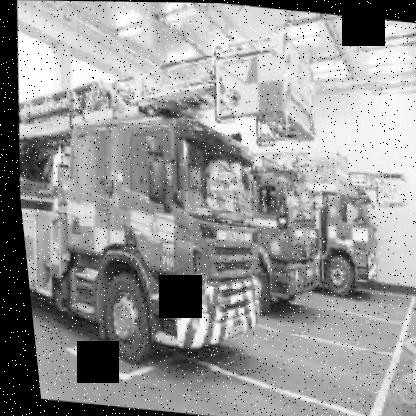emergency: (7, 88, 412, 415)
